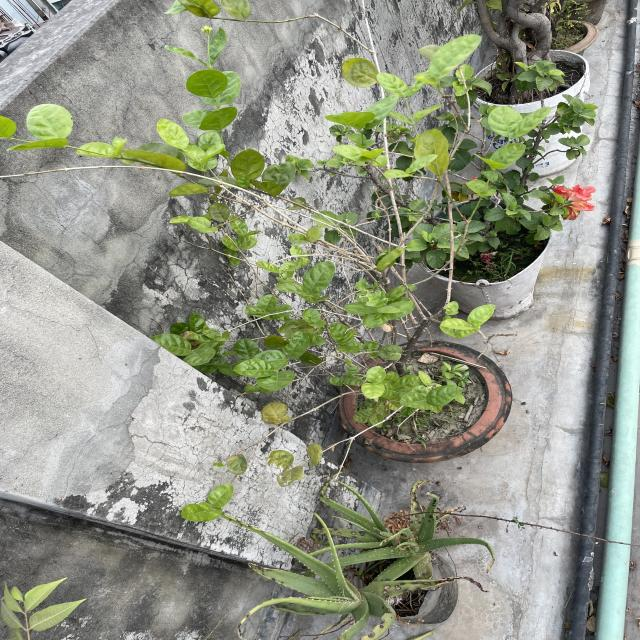Breeding Place: (347, 340, 509, 466), (413, 200, 547, 321), (474, 48, 589, 173), (332, 552, 467, 624), (516, 16, 599, 57)
